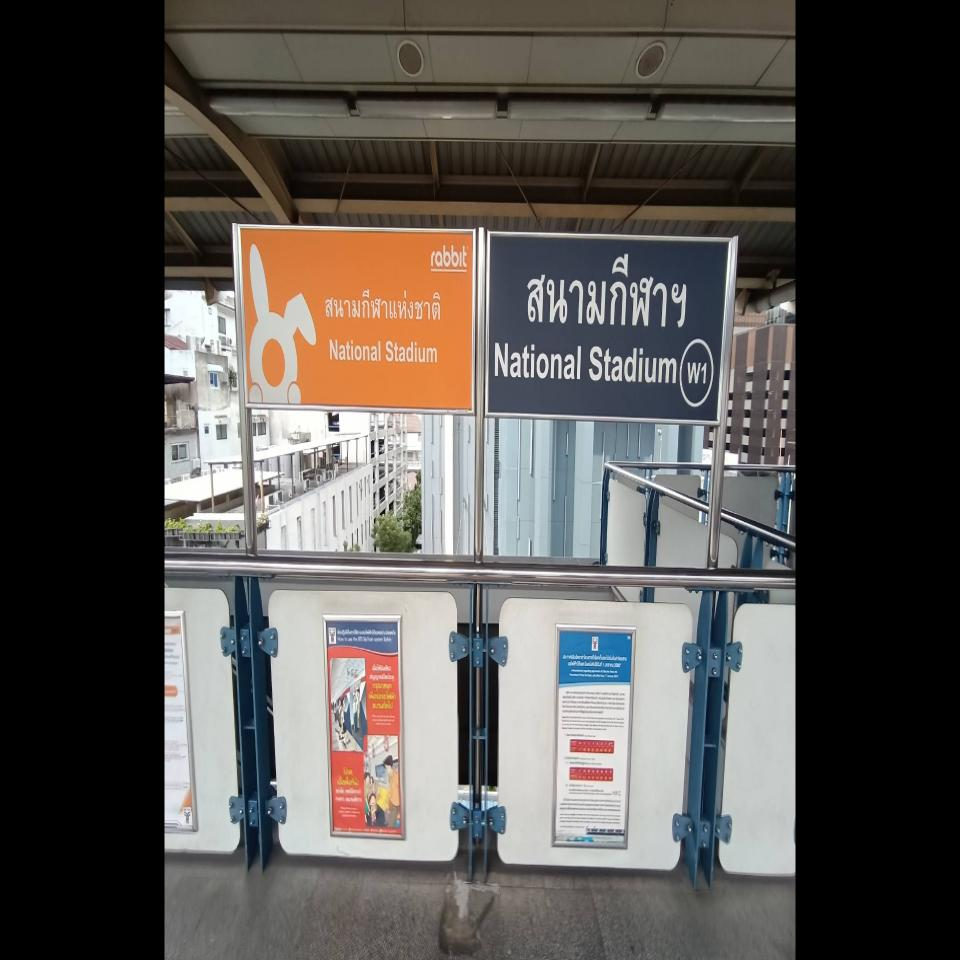signage: (485, 227, 732, 426), (238, 222, 476, 416)
